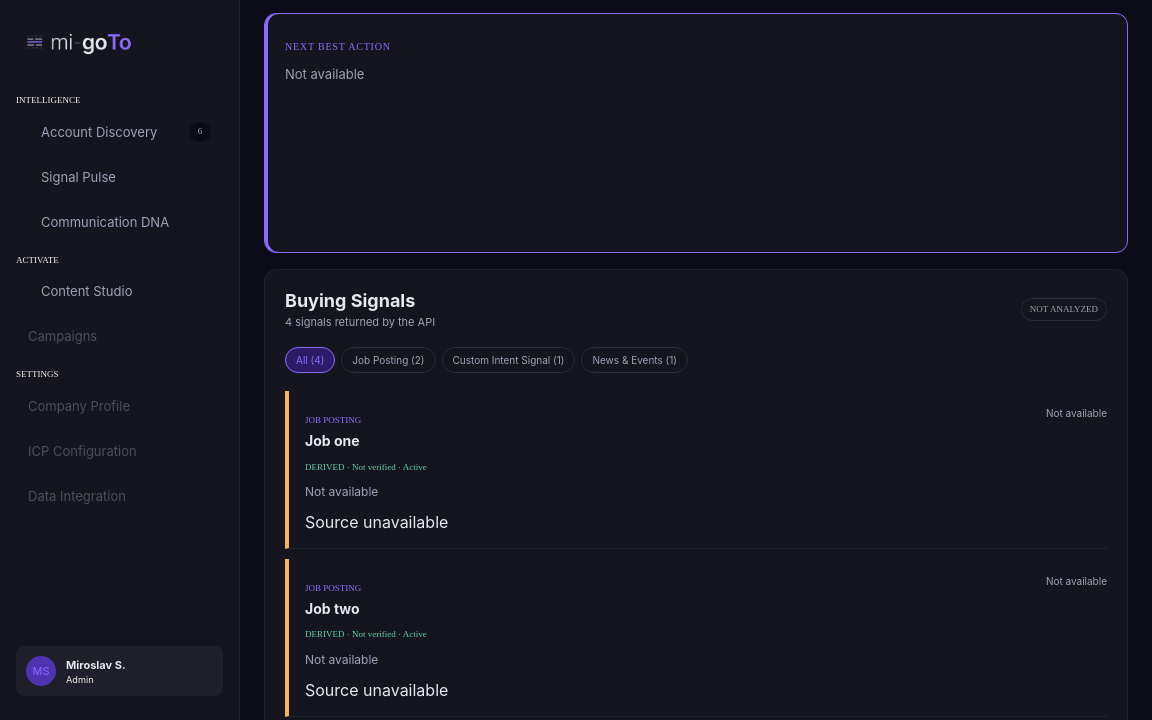
Test: API-mode Account Intelligence focused regressions › renders dynamic signal tabs and filters arbitrary signal types
(page scrolled)
Click the button "Custom Intent Signal (1)": (508, 360) [442,347,575,373]
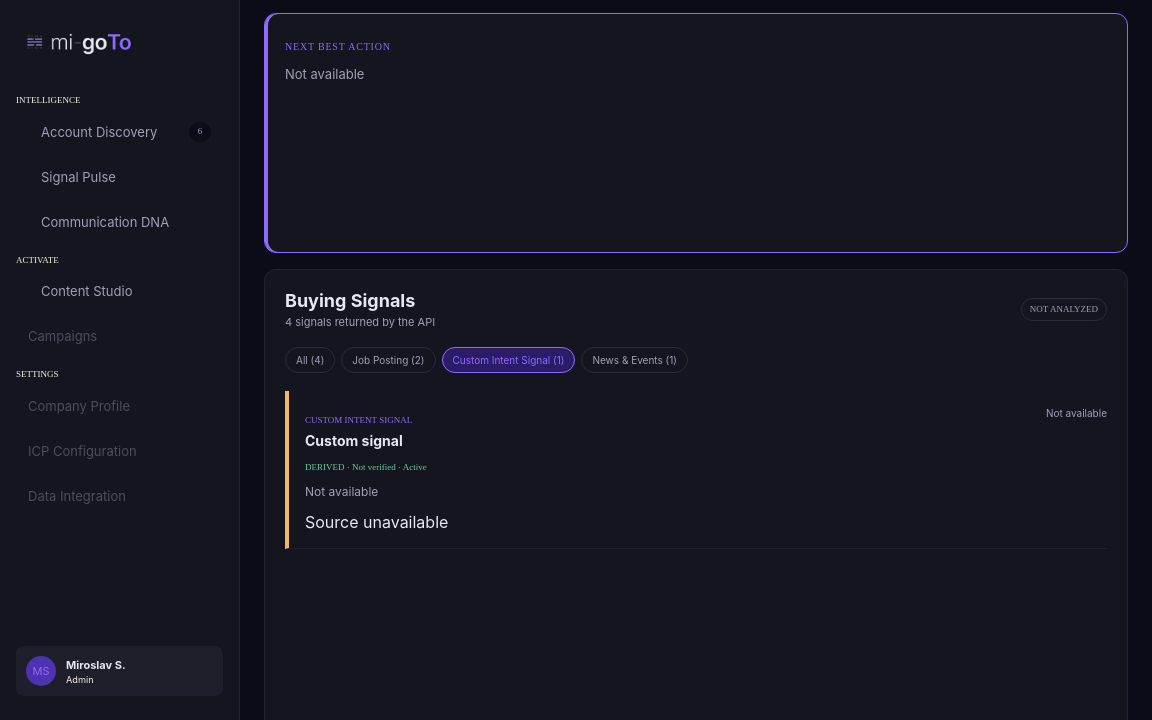
Expected: the text "Custom signal" is shown, [305,431,412,451]
Expected: the text "Job one" is gone
